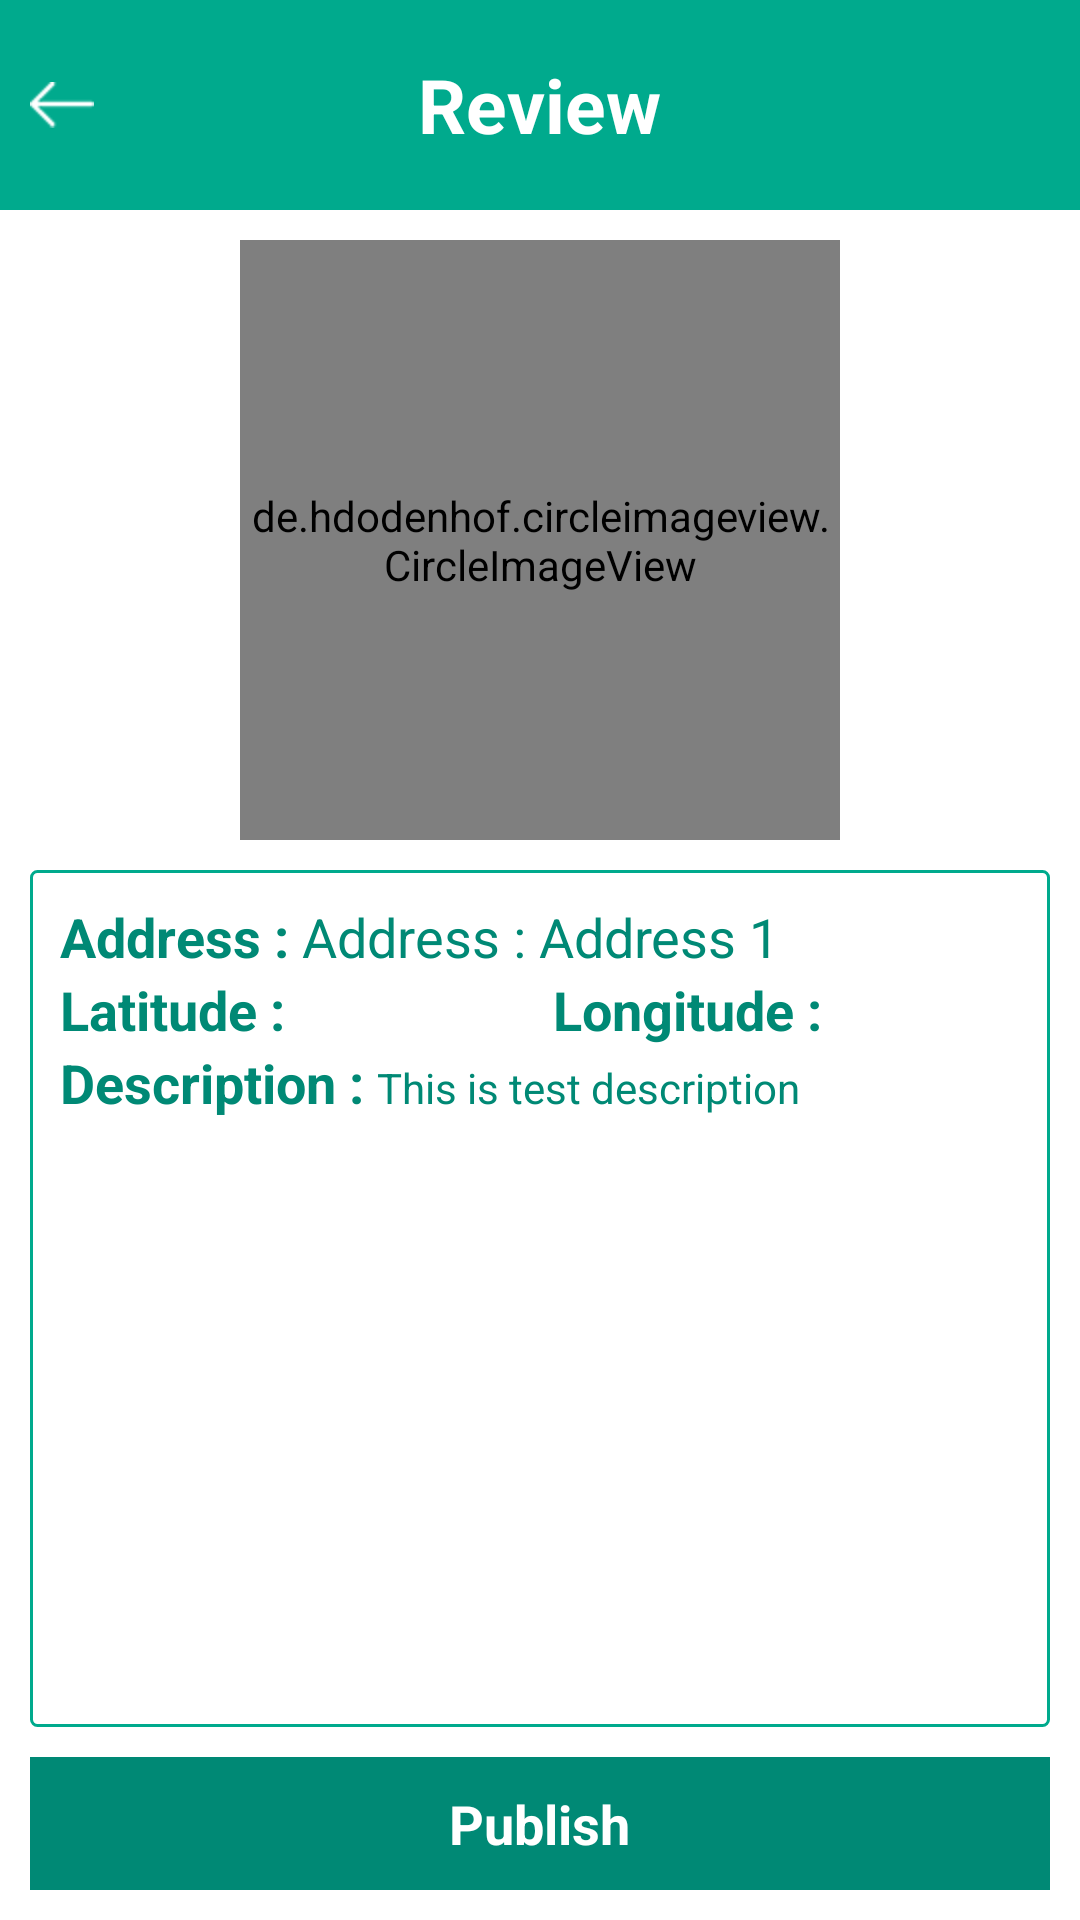

Icon click points for this 1080w x 1920h phone screenshot, format [x,y]:
back: [62,105]
